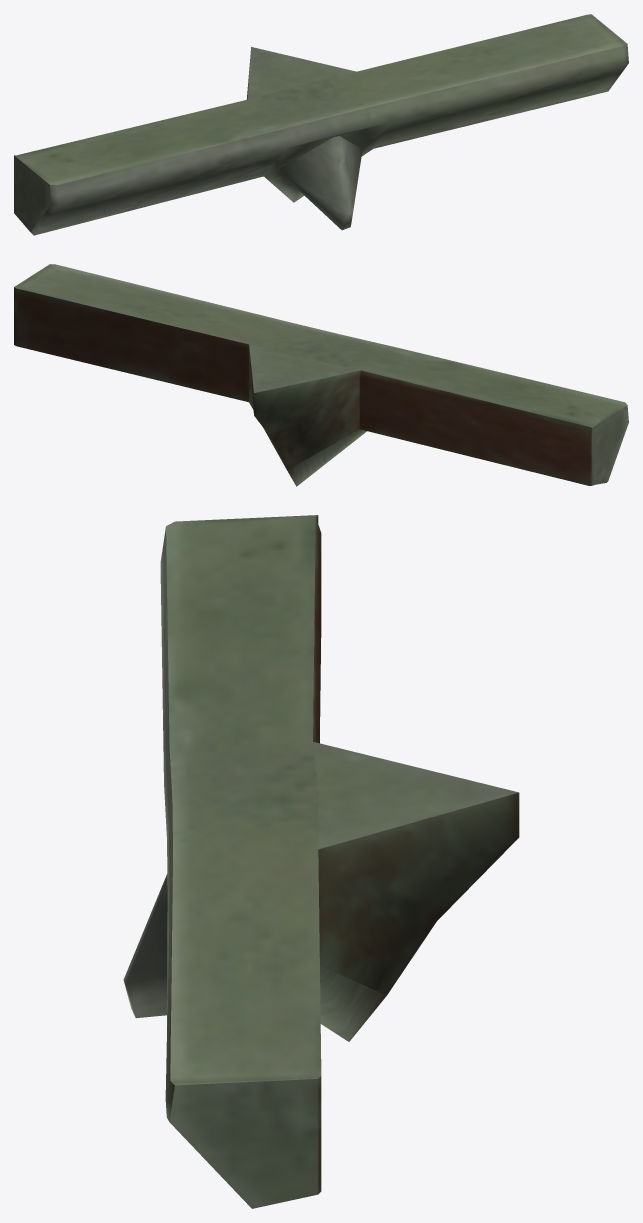
The model's file is Ruins_Trim_Top_4M_B.fbx.
The picture shows the model from 3 angles, top to bottom: view 1: azimuth 30°, elevation 25°; view 2: azimuth 150°, elevation 25°; view 3: azimuth 270°, elevation 25°; orthographic projection. The views are drawn at different scales.
Visible parts, largest first — view 1: Ruins_Trim_Top_4M_B; view 2: Ruins_Trim_Top_4M_B; view 3: Ruins_Trim_Top_4M_B.
Part boxes in pixels (x1,y1,x2,y2): Ruins_Trim_Top_4M_B: (14, 14, 628, 235); Ruins_Trim_Top_4M_B: (14, 264, 628, 486); Ruins_Trim_Top_4M_B: (123, 515, 519, 1208).
Size of the model in its own units: 402 by 83.1 by 119.
